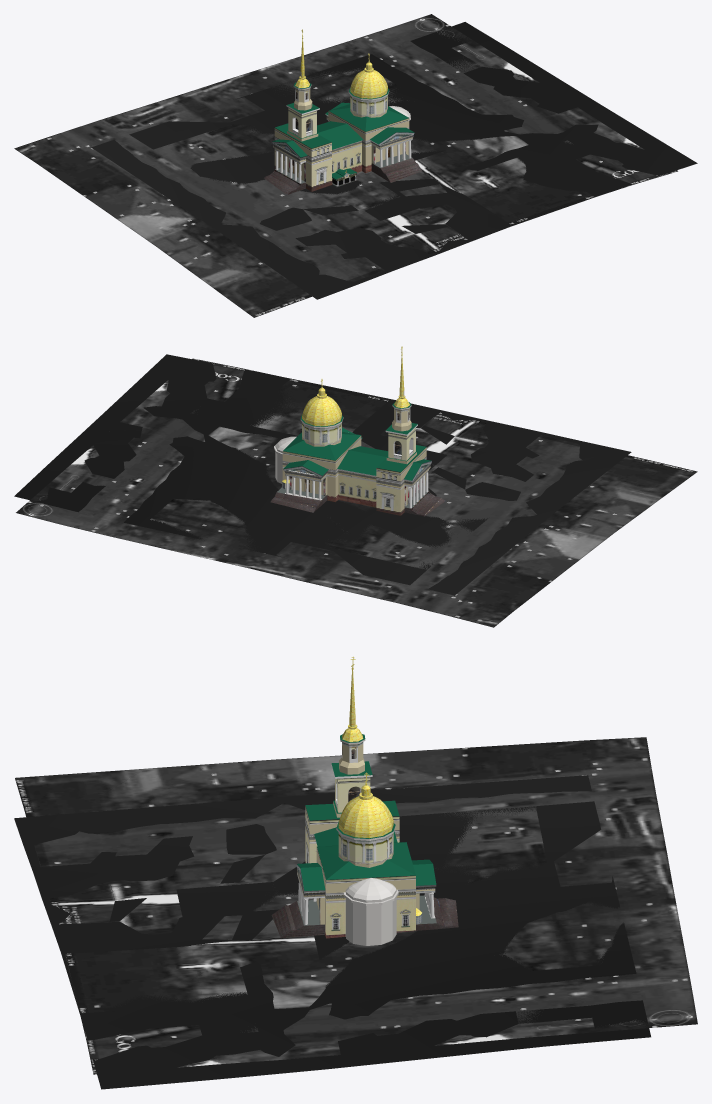
File: собор+невского.fbx
3 views of the same model, one above another, from view 1: azimuth 30°, elevation 25°; view 2: azimuth 150°, elevation 25°; view 3: azimuth 270°, elevation 25° (orthographic). The views are drawn at different scales.
Visible parts, largest first — view 1: Google_Earth_Terrain1, Google_Earth_Terrain, Model; view 2: Google_Earth_Terrain1, Google_Earth_Terrain, Model; view 3: Google_Earth_Terrain1, Google_Earth_Terrain, Model.
Part boxes in pixels (x1=…): Google_Earth_Terrain1: x1=14, y1=14, x2=677, y2=317; Google_Earth_Terrain: x1=91, y1=22, x2=697, y2=299; Model: x1=264, y1=29, x2=421, y2=194; Google_Earth_Terrain1: x1=16, y1=358, x2=697, y2=627; Google_Earth_Terrain: x1=14, y1=354, x2=631, y2=595; Model: x1=270, y1=346, x2=445, y2=516; Google_Earth_Terrain1: x1=15, y1=737, x2=697, y2=1074; Google_Earth_Terrain: x1=14, y1=775, x2=650, y2=1089; Model: x1=271, y1=656, x2=458, y2=945.
Size of the model in its own units: 207 by 64.97 by 169.
